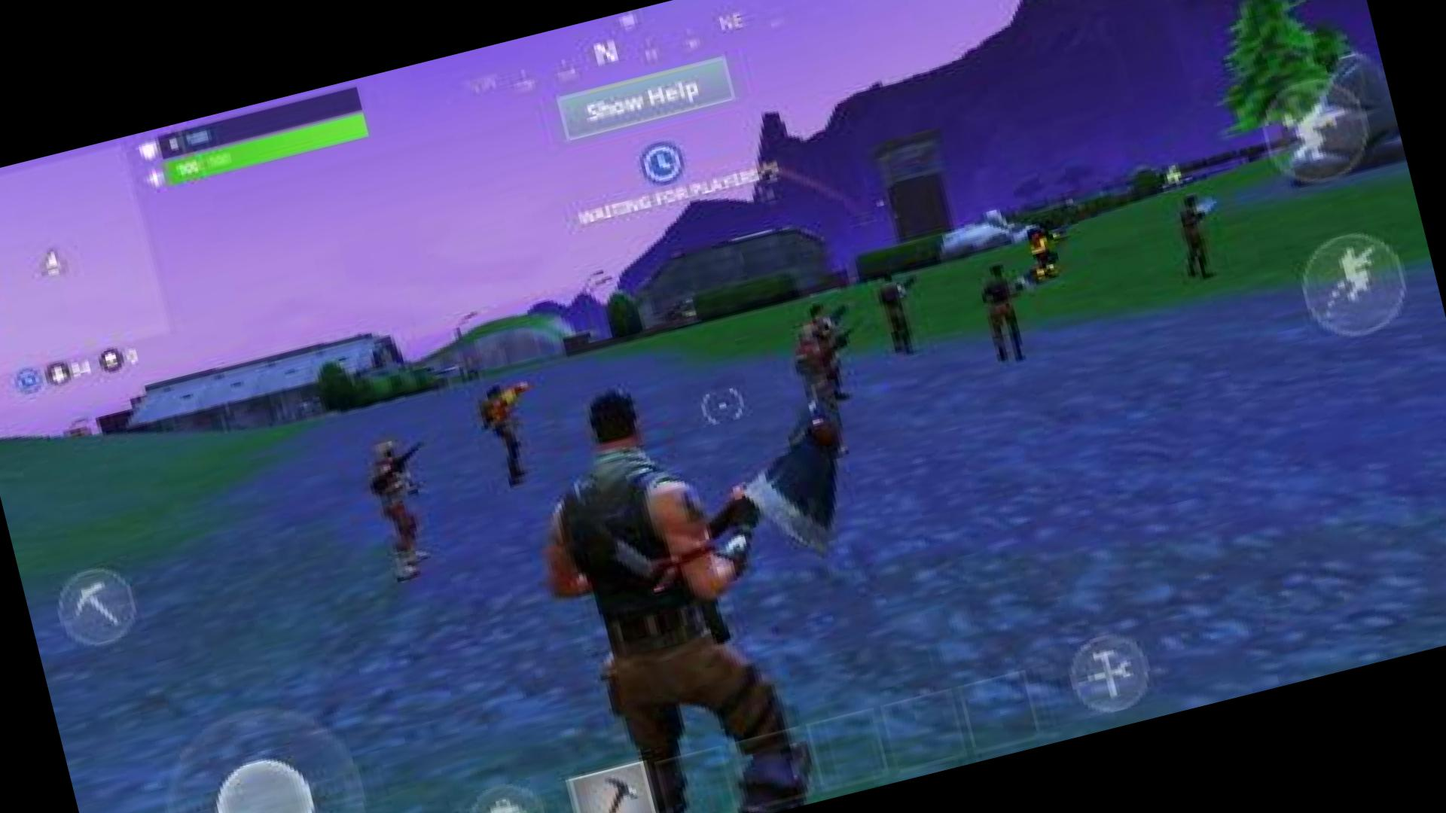player: (346, 419, 458, 592), (462, 365, 551, 494), (962, 253, 1051, 381), (1158, 174, 1251, 295), (861, 257, 934, 373), (795, 287, 863, 399), (1018, 205, 1090, 292)
